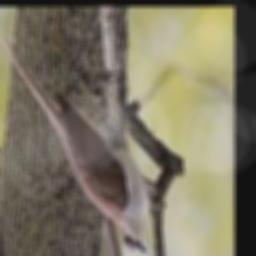Cuckoo: (0, 30, 147, 254)
